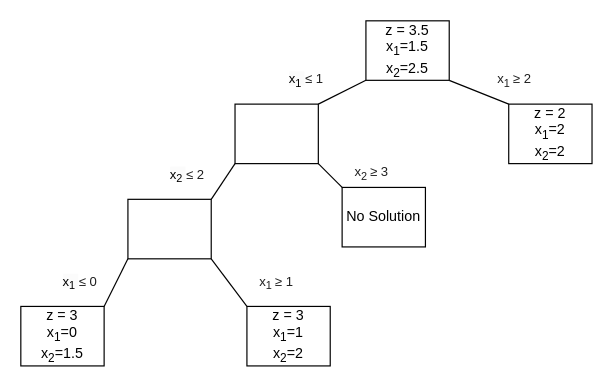
Image size: 613x387. Some labels were removed from this diagram. The shapes that lost their labels are listed below. From the top down, each one's box as (x1, y1, x2, y2) in pixels, then its label:
(234, 103, 318, 164): z = 3.3 x 1 =1 x 2 =2.1
(127, 198, 211, 259): z = 3.25 x 1 =0.75 x 2 =2
